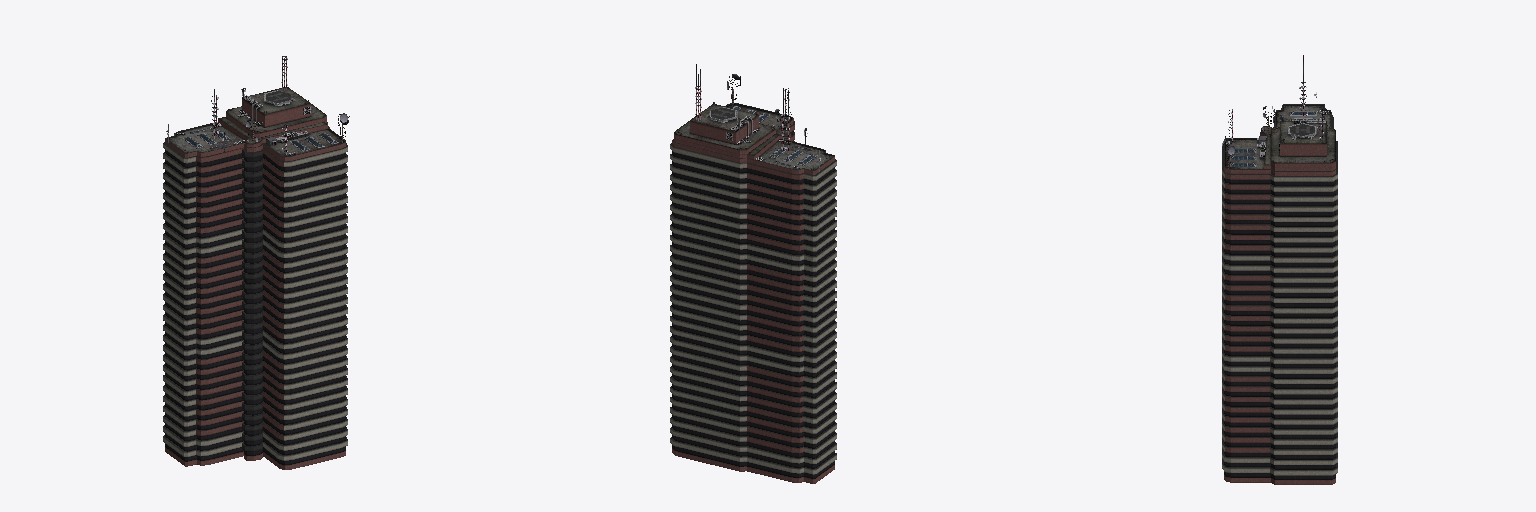
3 views of the same model, side by side, from view 1: azimuth 30°, elevation 25°; view 2: azimuth 150°, elevation 25°; view 3: azimuth 270°, elevation 25° (orthographic).
Visible parts, largest first — view 1: Box01, Object03; view 2: Box01, Object03, Object02; view 3: Box01, Object03.
Part boxes in pixels (left/top/right/bottom): Box01: left=163, top=87, right=347, bottom=469; Object03: left=169, top=90, right=349, bottom=155; Box01: left=670, top=103, right=836, bottom=483; Object03: left=678, top=74, right=830, bottom=169; Object02: left=695, top=64, right=820, bottom=171; Box01: left=1222, top=104, right=1337, bottom=484; Object03: left=1222, top=106, right=1333, bottom=168.
Bounding box in the file's own units: 67.29 × 176 × 47.48.
Materials: 3 (3 with a texture image).